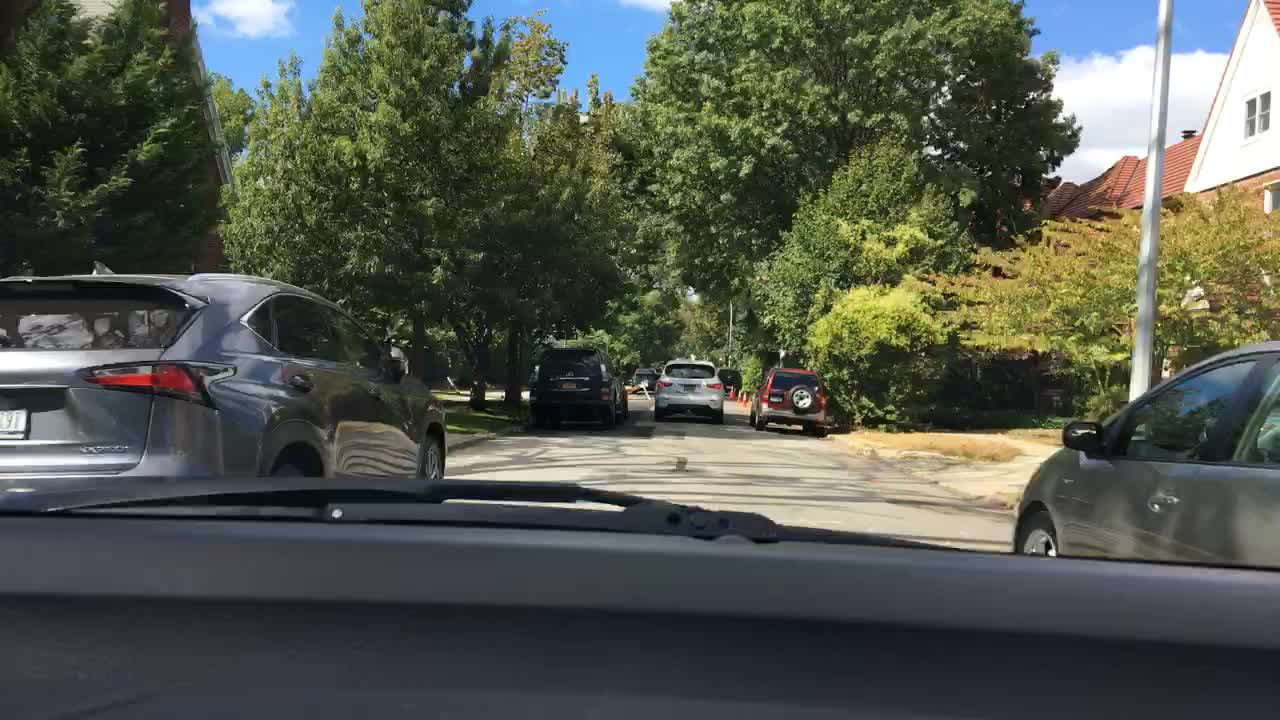car: (0, 271, 450, 506), (1017, 339, 1276, 575), (529, 343, 624, 434), (748, 368, 828, 440), (655, 358, 721, 423), (628, 366, 658, 391), (716, 366, 738, 396)
